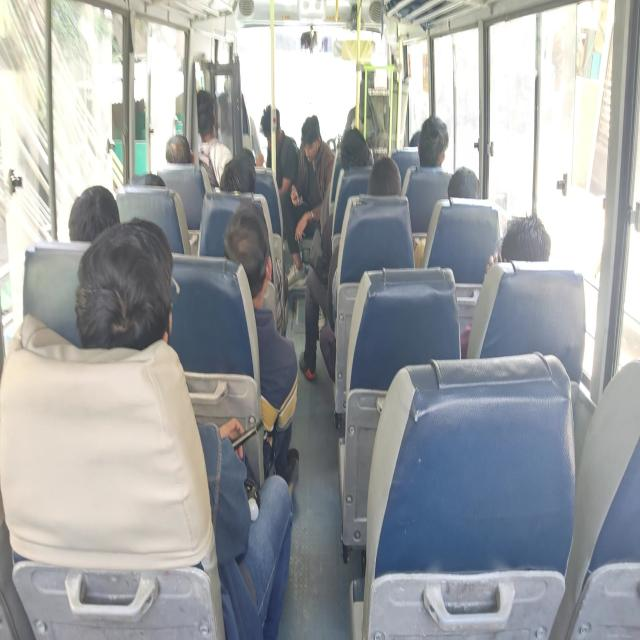person: (74, 216, 294, 638), (223, 203, 300, 497), (298, 127, 373, 380), (460, 213, 551, 358), (327, 156, 402, 330), (284, 114, 335, 284), (413, 165, 481, 268), (484, 214, 550, 276), (259, 104, 299, 198), (196, 89, 232, 190), (68, 184, 120, 242), (418, 114, 448, 168), (220, 152, 256, 193), (366, 156, 402, 196), (340, 127, 372, 169), (447, 166, 481, 199), (165, 134, 192, 164)
